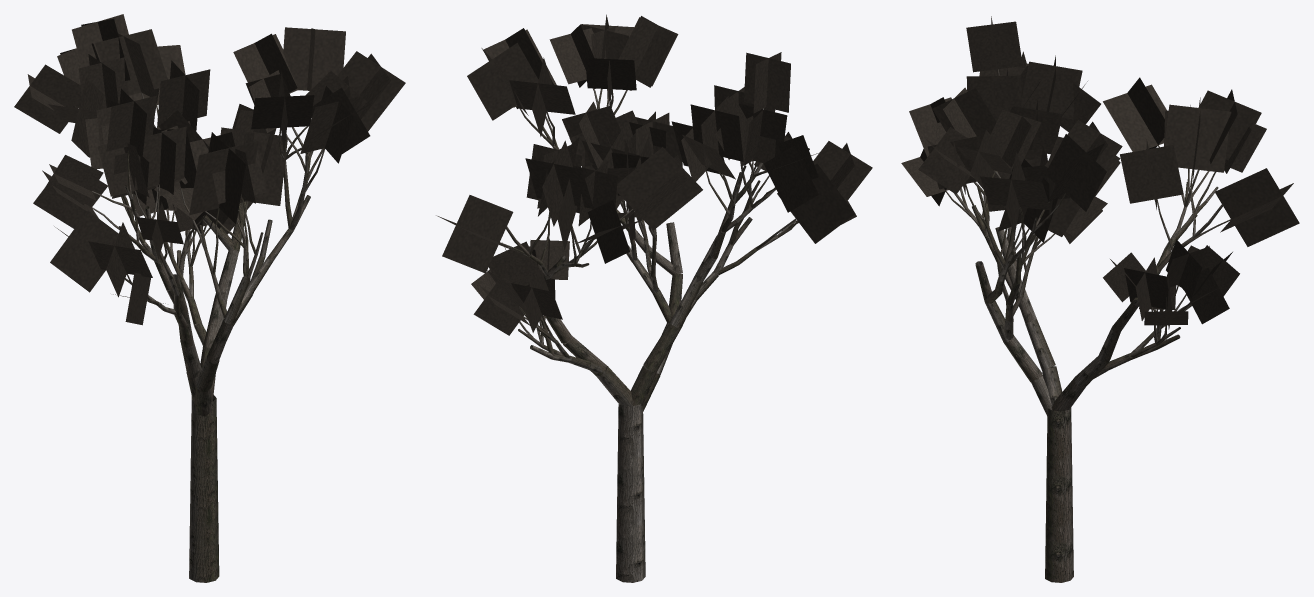
The model's file is S1U_Tree_B.fbx.
The picture shows the model from 3 angles, left to right: view 1: azimuth 30°, elevation 25°; view 2: azimuth 150°, elevation 25°; view 3: azimuth 270°, elevation 25°; orthographic projection. The views are drawn at different scales.
Parts seen in each view (by area): view 1: S1U_Tree_B; view 2: S1U_Tree_B; view 3: S1U_Tree_B.
Part boxes in pixels (x1=…): S1U_Tree_B: x1=14, y1=14, x2=405, y2=582; S1U_Tree_B: x1=436, y1=14, x2=872, y2=582; S1U_Tree_B: x1=901, y1=16, x2=1299, y2=582.
Bounding box in the file's own units: 9.22 × 12.77 × 9.11.
